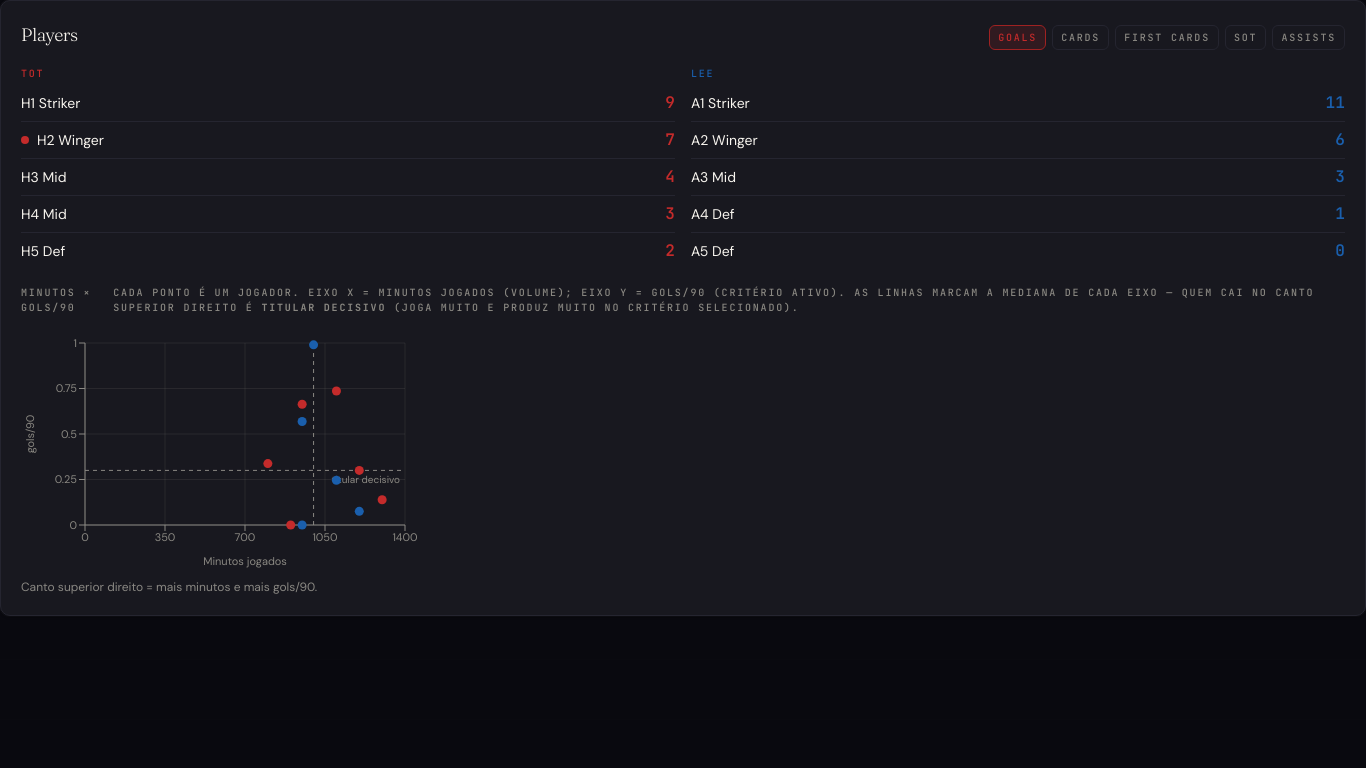
Test case: U.6 — scatter Y axis segue criterion ativo › ao trocar para 'sot', Y-axis label muda para chutes/90
The image size is (1366, 768).
Click the button "sot": (1246, 38) [1225,25,1266,50]
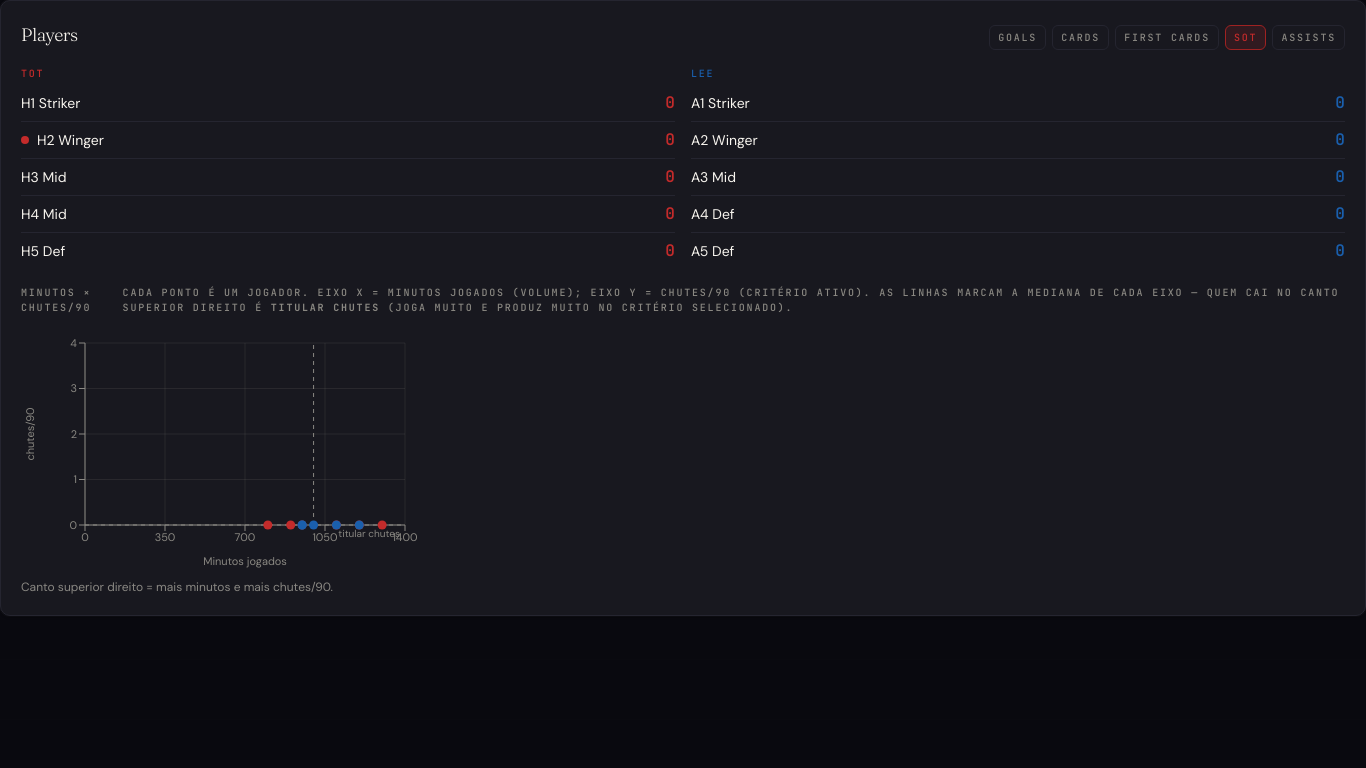
Expected: the text "chutes/90" is shown, [661,286,731,299]
